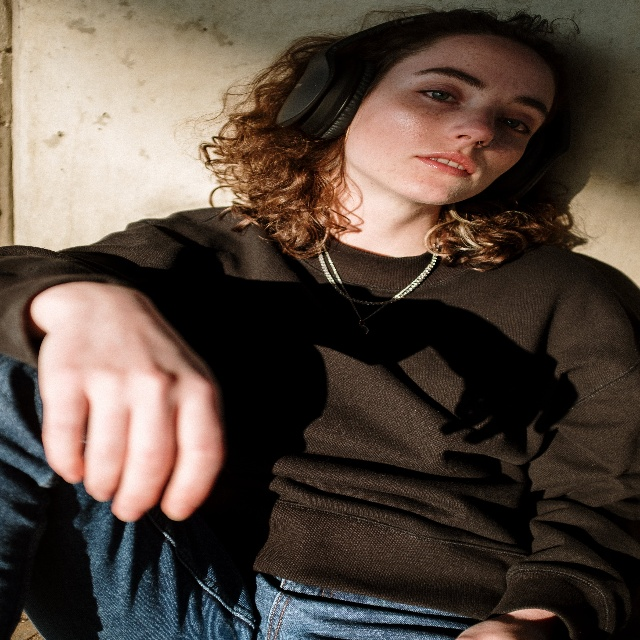Sin_guantes: (36, 301, 226, 524)
